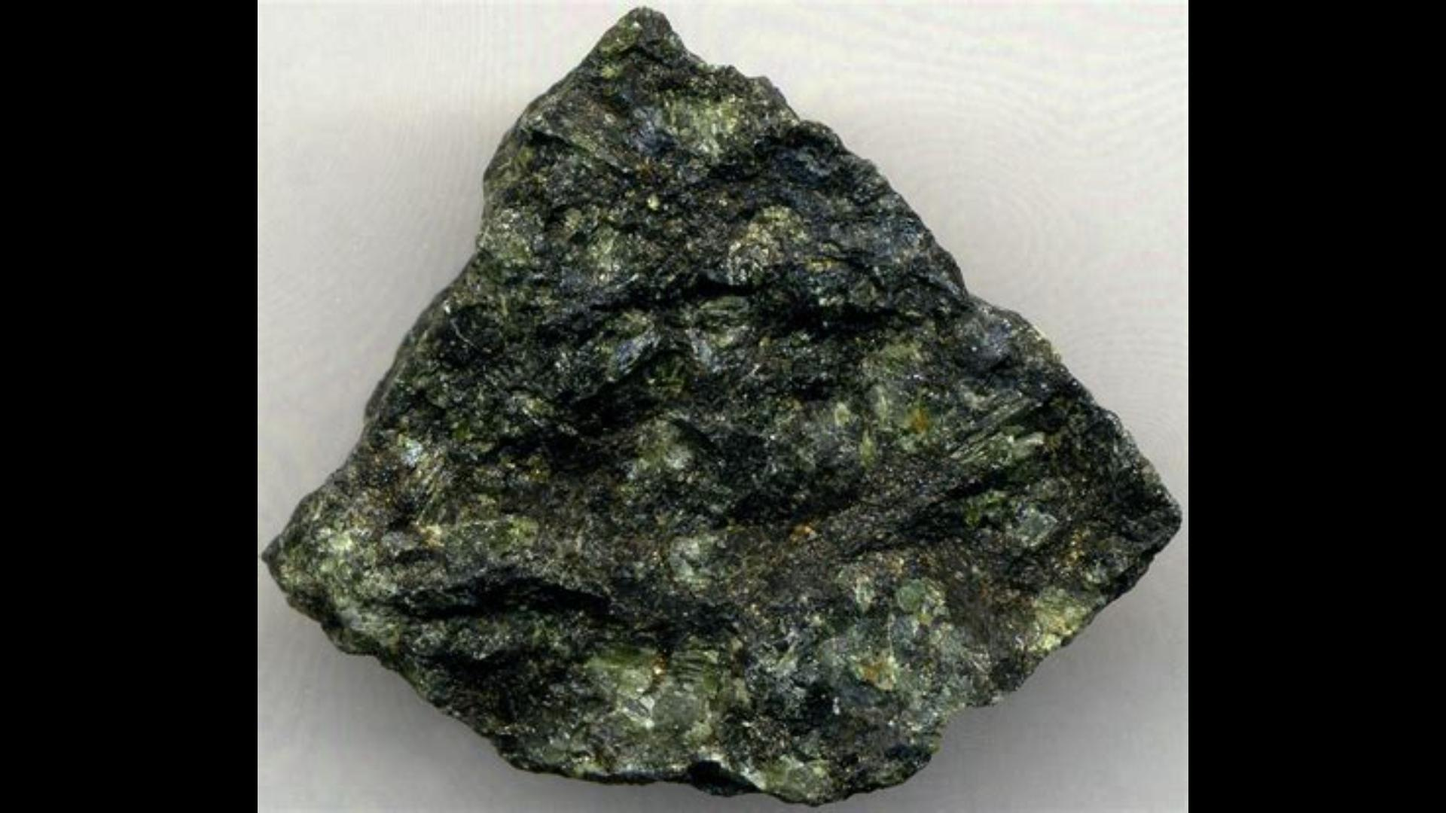rock: (263, 10, 1177, 803)
